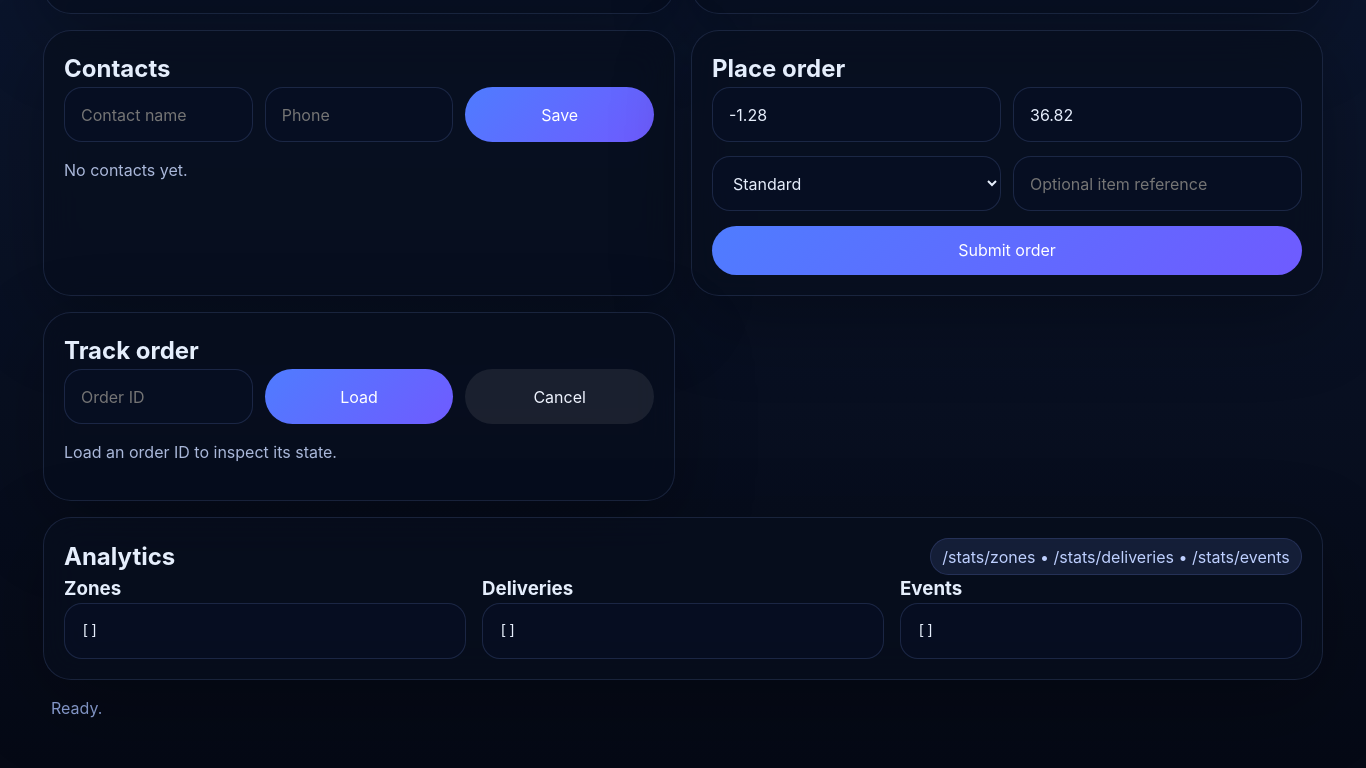
App auth and order flows › looks up an order and renders the order record
(page scrolled)
Type "oid" into the field with placeholder "Order ID".
click(158, 397); type("oid")  # box 64,369 -> 253,424
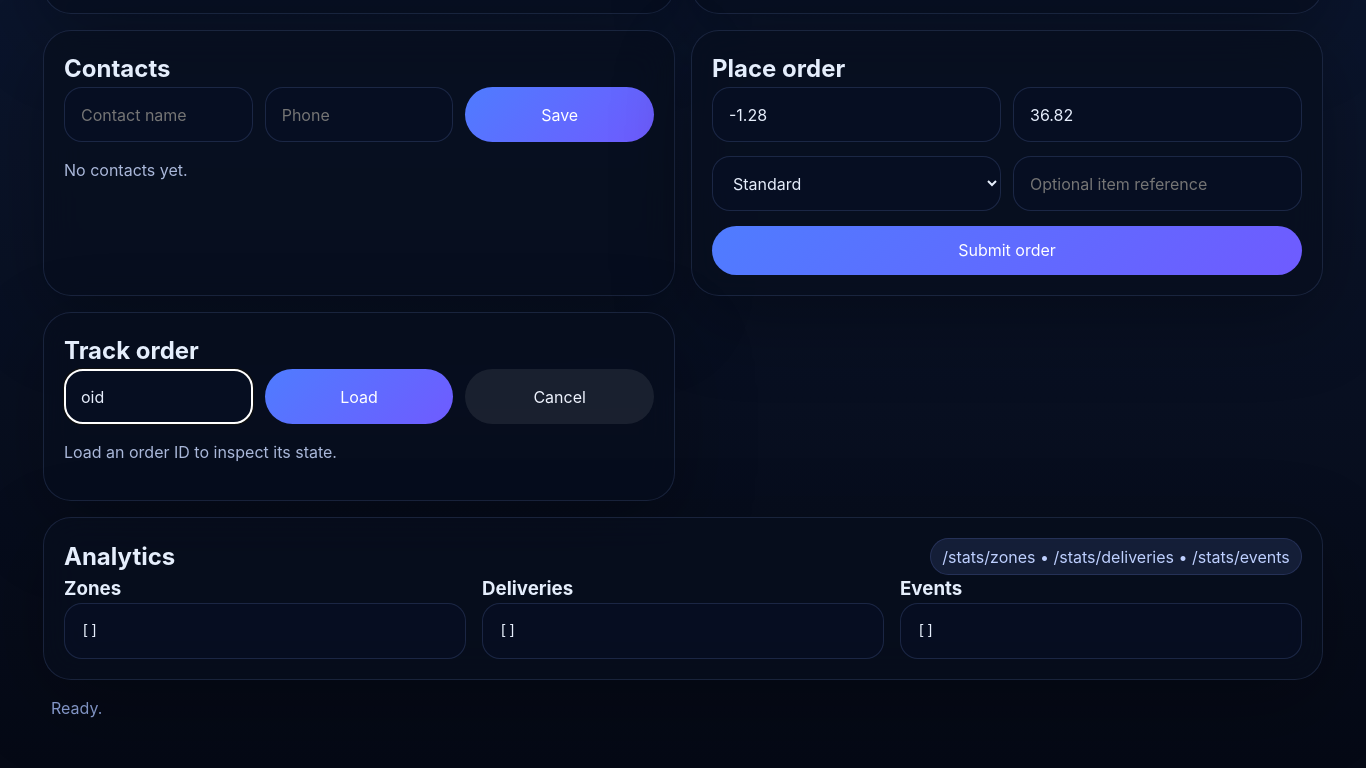
Click the button "Load".
click(359, 397)  # box 265,369 -> 453,424
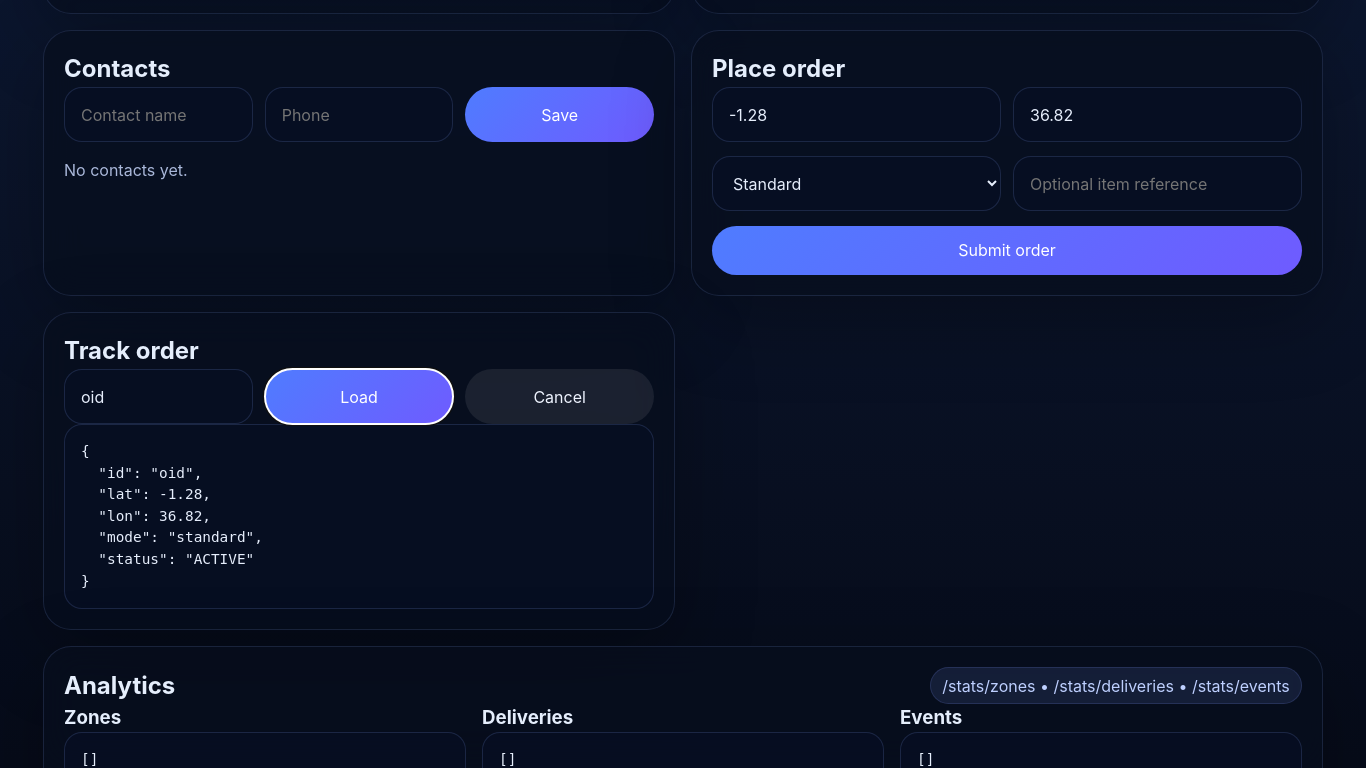
Now the text "Track order" shows "\"id\": \"oid\"", box 81,443 -> 263,589
Now the text "Track order" shows "\"status\": \"ACTIVE\"", box 81,443 -> 263,589
